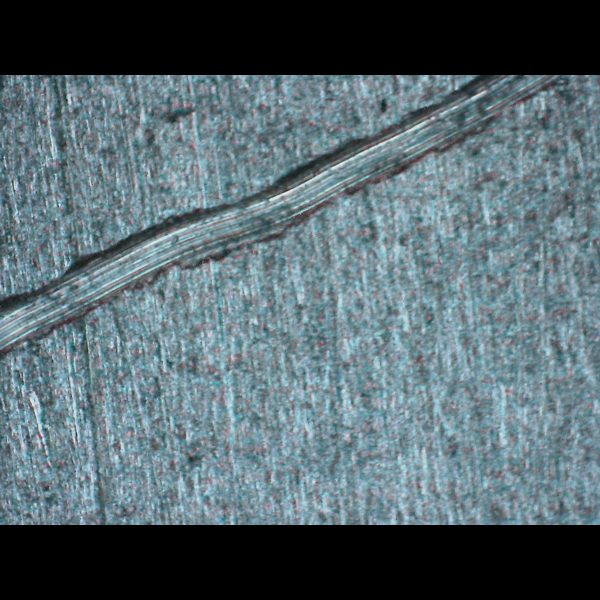d: (0, 75, 568, 369)
